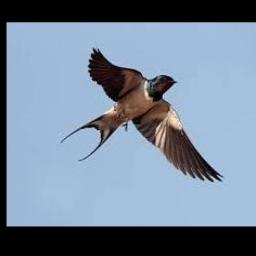Swallow: (61, 47, 226, 181)
